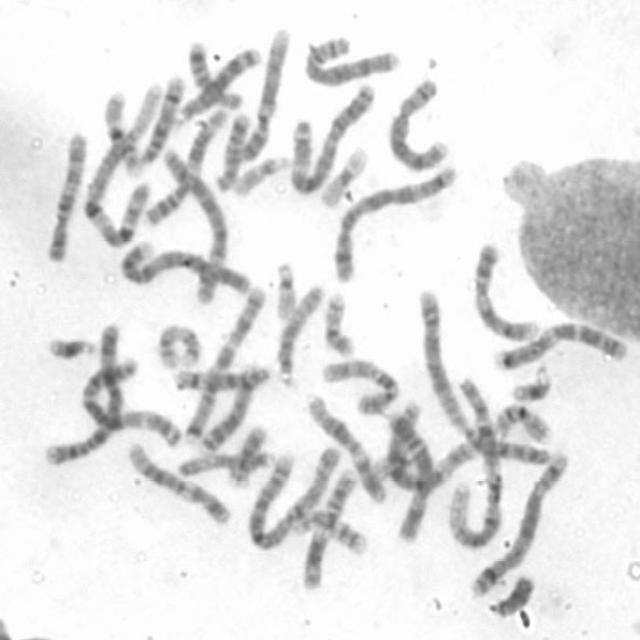A1: (77, 76, 166, 250), (442, 366, 505, 552)
A2: (411, 283, 553, 468), (244, 438, 344, 551)
A3: (286, 78, 378, 194), (82, 352, 184, 450)
B4: (39, 332, 132, 470), (116, 236, 254, 297)
B5: (328, 159, 462, 283), (465, 443, 571, 598)
C10: (42, 126, 90, 264), (316, 352, 402, 416)
C11: (140, 104, 230, 228), (296, 463, 361, 590)
C12: (124, 434, 234, 528), (301, 390, 388, 506)
C6: (159, 144, 232, 306), (379, 400, 500, 493)
C7: (182, 281, 270, 445), (488, 316, 632, 372)
C8: (382, 72, 452, 174), (300, 31, 402, 87)
C9: (234, 22, 293, 164), (467, 234, 543, 342)
D13: (170, 40, 262, 126), (195, 360, 260, 454)
D14: (133, 70, 188, 167), (167, 358, 275, 394)
D15: (270, 278, 326, 388), (172, 443, 277, 480)
E16: (99, 85, 143, 176), (491, 398, 554, 445)
E17: (288, 503, 369, 559), (153, 318, 204, 371)
E18: (184, 35, 246, 110), (213, 106, 252, 192)
F19: (314, 140, 370, 209), (370, 435, 428, 488)
F20: (223, 420, 270, 489), (319, 286, 359, 358)
G21: (506, 358, 554, 404), (43, 328, 100, 362)
G22: (229, 148, 293, 200), (270, 255, 300, 321)
X: (383, 402, 434, 545)
Y: (486, 568, 538, 618)
